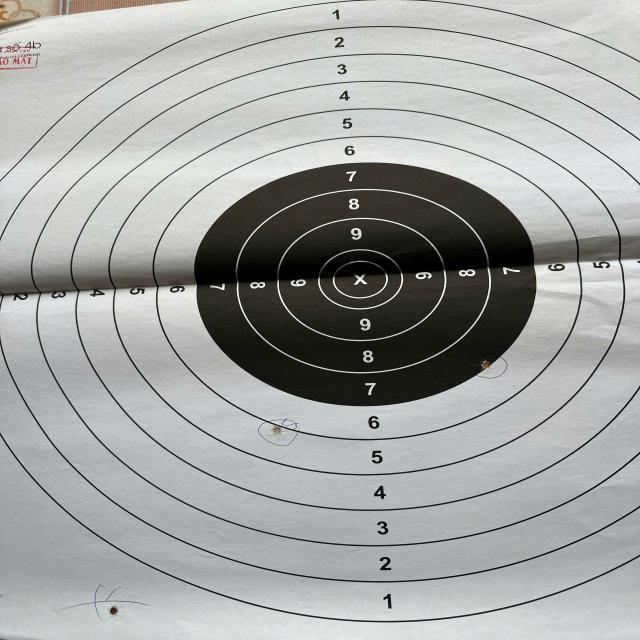bullet: (270, 426, 285, 439), (481, 360, 492, 370), (109, 606, 118, 615)
target: (0, 0, 640, 640)
